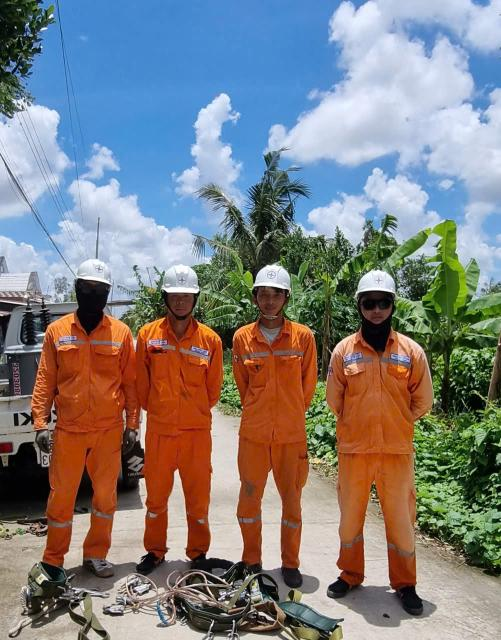gloves: (119, 425, 139, 459), (30, 433, 53, 452)
helmet: (67, 249, 123, 298), (344, 262, 407, 303), (153, 262, 212, 301), (245, 264, 300, 297)
shoes: (388, 577, 437, 620), (323, 559, 363, 600), (78, 555, 117, 582), (139, 540, 165, 578), (182, 544, 211, 573), (278, 563, 309, 584), (242, 549, 260, 584)
